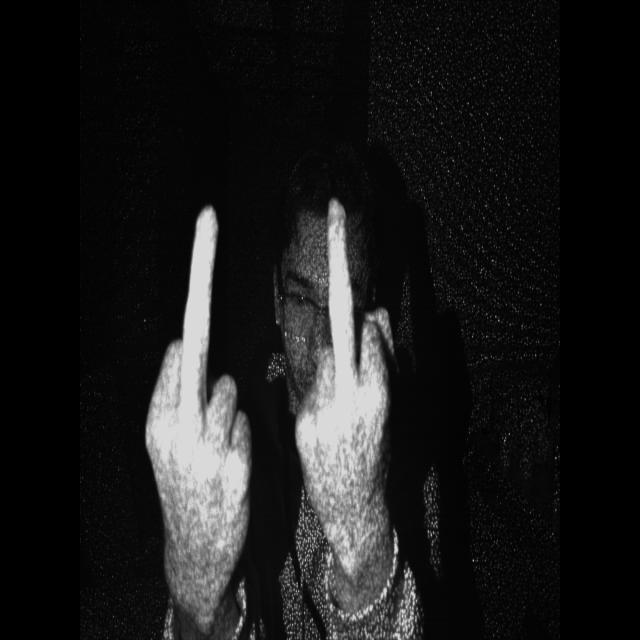FUCK YOU: (134, 179, 268, 574), (290, 200, 410, 592)
